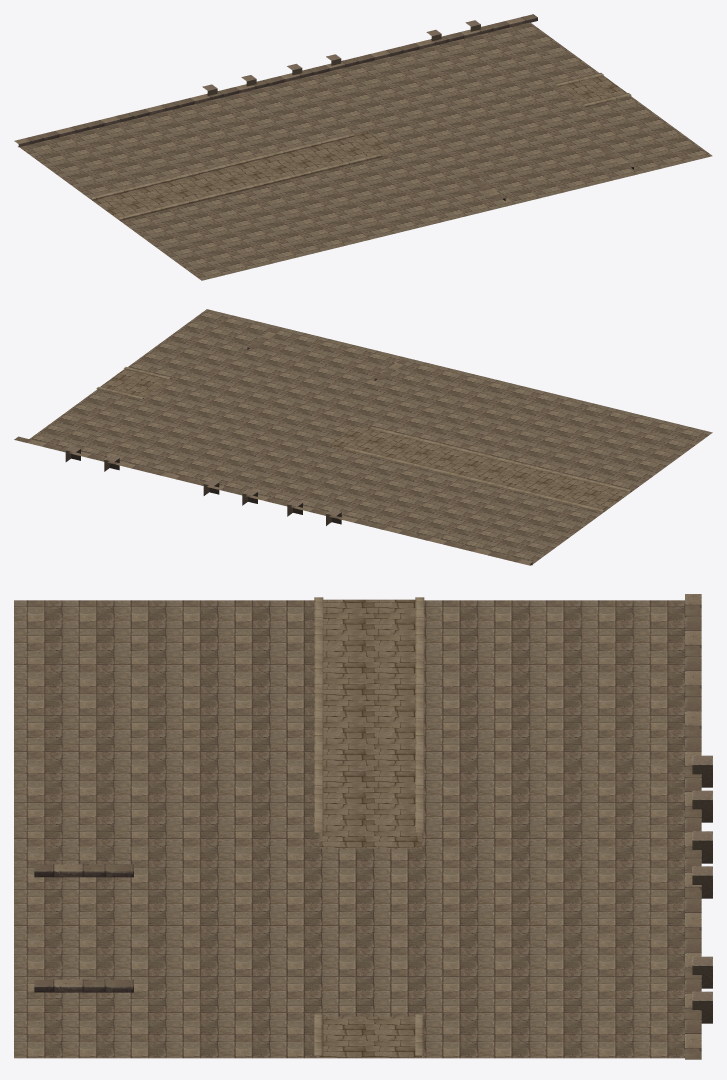
File: terrain_section03_guanka1301.FBX
The picture shows the model from 3 angles, top to bottom: view 1: azimuth 30°, elevation 25°; view 2: azimuth 150°, elevation 25°; view 3: azimuth 270°, elevation 25°; orthographic projection. The views are drawn at different scales.
Parts seen in each view (by area): view 1: terrain_section03_guanka1301; view 2: terrain_section03_guanka1301; view 3: terrain_section03_guanka1301.
Boxes of the visible parts, x1=… form: terrain_section03_guanka1301: x1=14, y1=14, x2=712, y2=280; terrain_section03_guanka1301: x1=14, y1=309, x2=712, y2=565; terrain_section03_guanka1301: x1=14, y1=594, x2=712, y2=1059.
Bounding box in the file's own units: 93.52 × 2.16 × 59.34.
